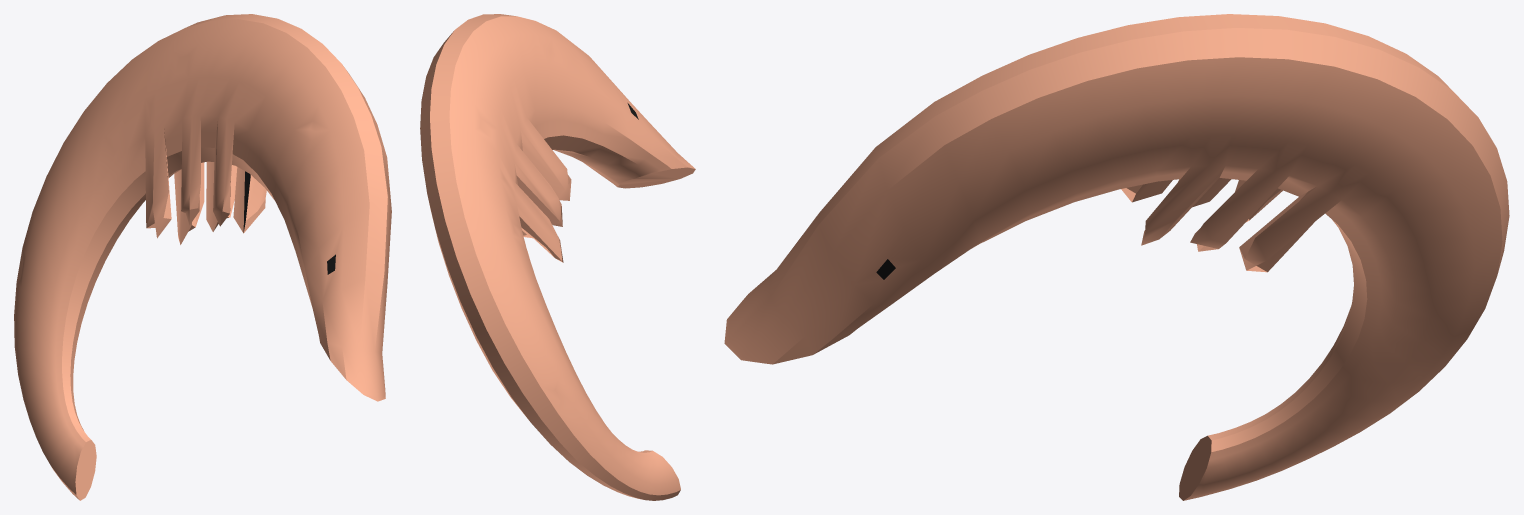
Rendered from Shrimp.fbx.
The picture shows the model from 3 angles, left to right: view 1: azimuth 30°, elevation 25°; view 2: azimuth 150°, elevation 25°; view 3: azimuth 270°, elevation 25°; orthographic projection. The views are drawn at different scales.
Parts seen in each view (by area): view 1: Torus.014; view 2: Torus.014; view 3: Torus.014.
Part boxes in pixels (box(x1,y1,x2,y2)): Torus.014: box(14, 14, 391, 500); Torus.014: box(420, 14, 695, 500); Torus.014: box(724, 14, 1509, 500).
Bounding box in the file's own units: 21.24 × 34.77 × 39.14.
